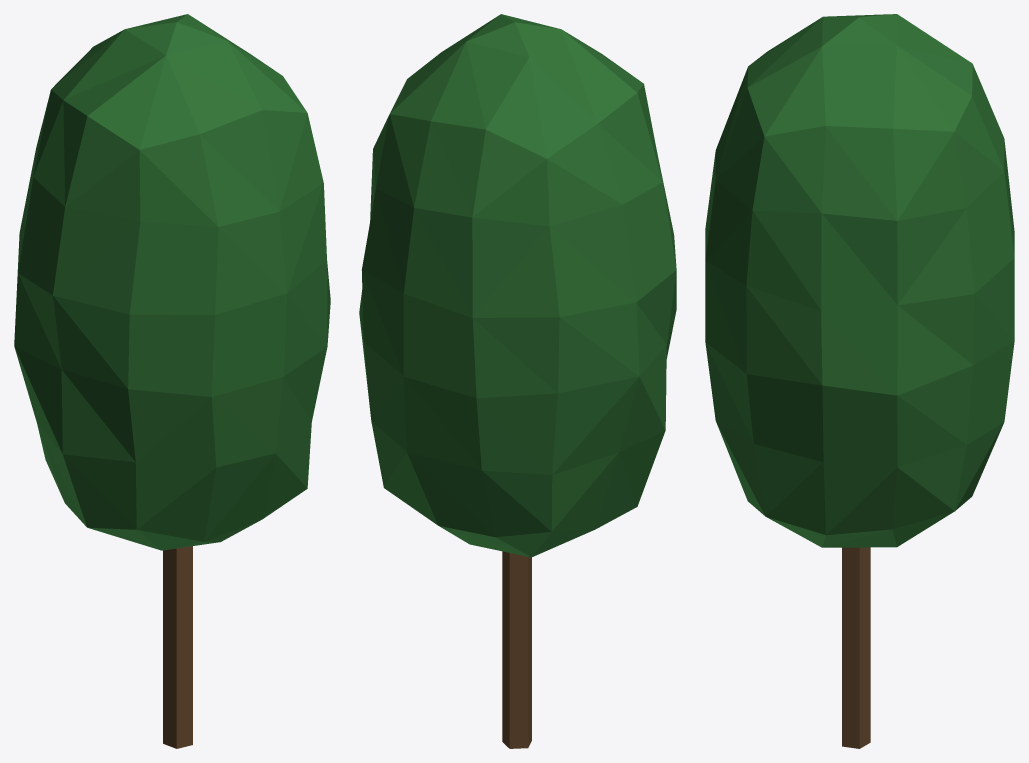
File: tree-elipse.glb
The picture shows the model from 3 angles, left to right: view 1: azimuth 30°, elevation 25°; view 2: azimuth 150°, elevation 25°; view 3: azimuth 270°, elevation 25°; orthographic projection.
Visible parts, largest first — view 1: tree-elipse; view 2: tree-elipse; view 3: tree-elipse.
Part boxes in pixels (box(x1,y1,x2,y2)): tree-elipse: box(14, 14, 330, 748); tree-elipse: box(359, 14, 676, 748); tree-elipse: box(705, 14, 1014, 748).
Bounding box in the file's own units: 2.85 × 7 × 2.71.
